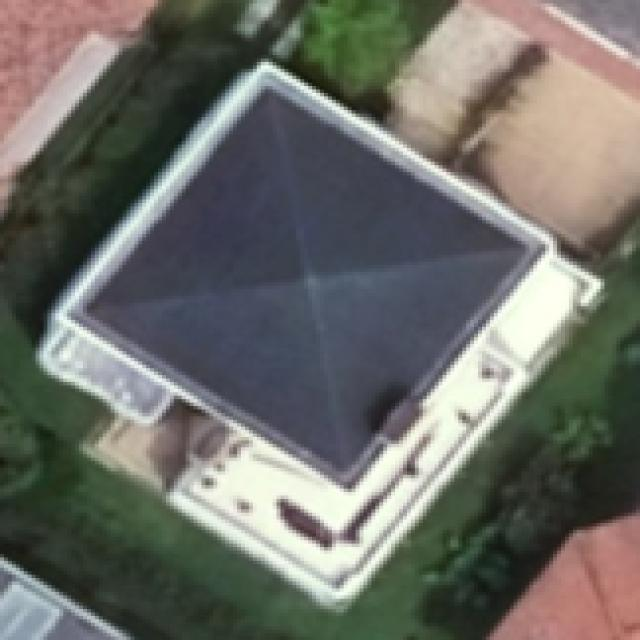Batiment: (39, 62, 601, 607)
